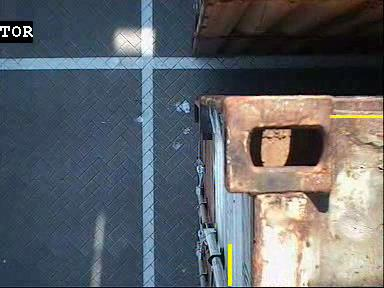groundmarker_2: (91, 71, 187, 132)
